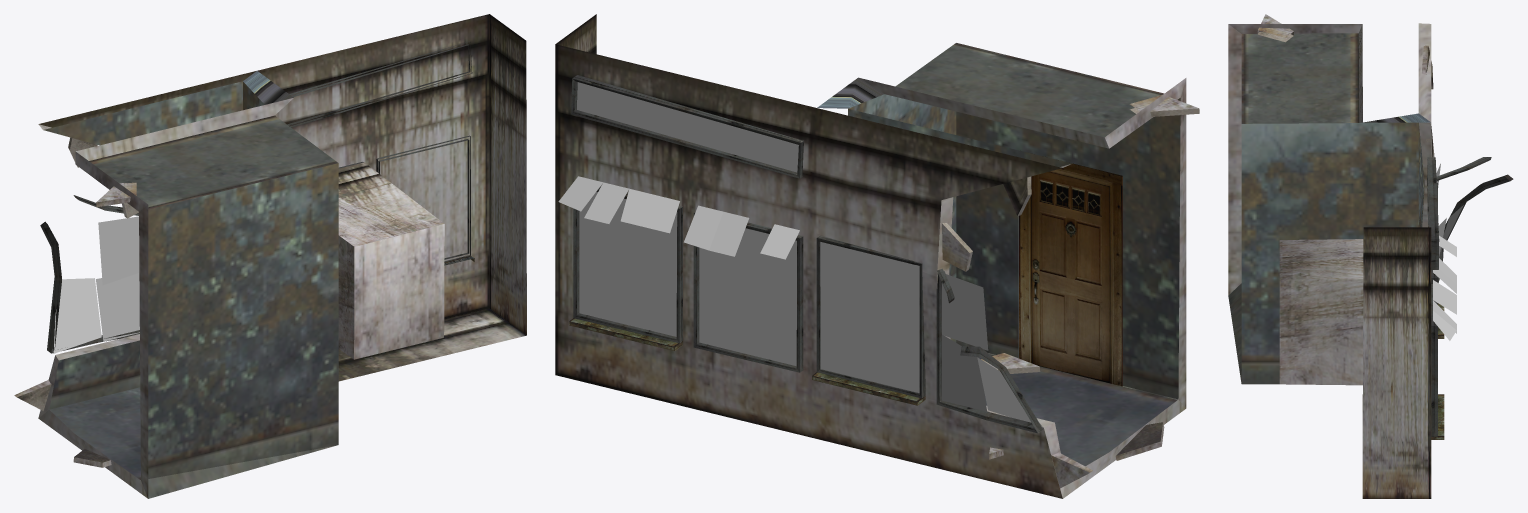
Rendered from Store_front_9_C.fbx.
3 renders of one model, left to right at view 1: azimuth 30°, elevation 25°; view 2: azimuth 150°, elevation 25°; view 3: azimuth 270°, elevation 25°, orthographic. The views are drawn at different scales.
Visible parts, largest first — view 1: Store_front_9_C; view 2: Store_front_9_C; view 3: Store_front_9_C.
Part boxes in pixels (x1=…): Store_front_9_C: x1=14, y1=14, x2=526, y2=498; Store_front_9_C: x1=555, y1=14, x2=1199, y2=498; Store_front_9_C: x1=1228, y1=14, x2=1513, y2=498.
Bounding box in the file's own units: 749 × 437 × 415.
